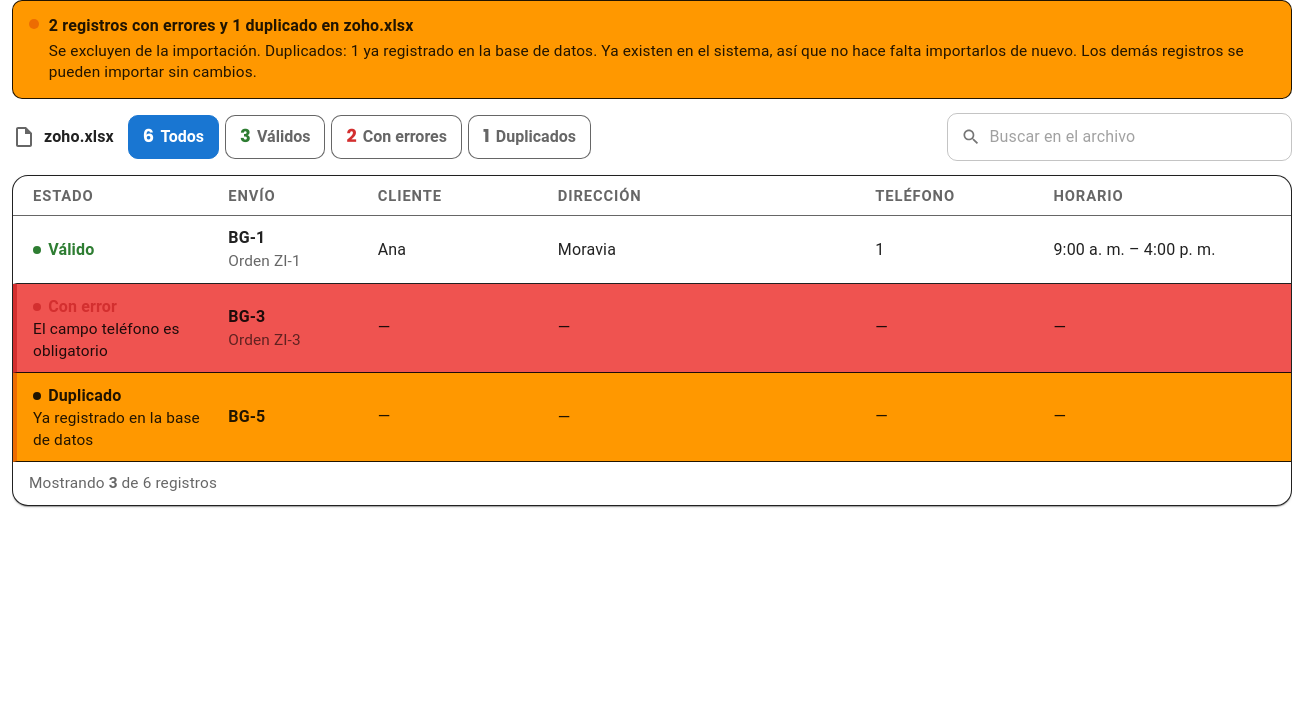
Test case: ImportPreviewView › busca dentro del archivo sin distinguir mayúsculas ni tildes y se combina con el filtro
The width and height of the screenshot is (1304, 720).
Type "MORÁVIA" into the search field labelled "Buscar en el archivo" at [1141, 137], box top-left (989, 112), bottom-right (1292, 161)
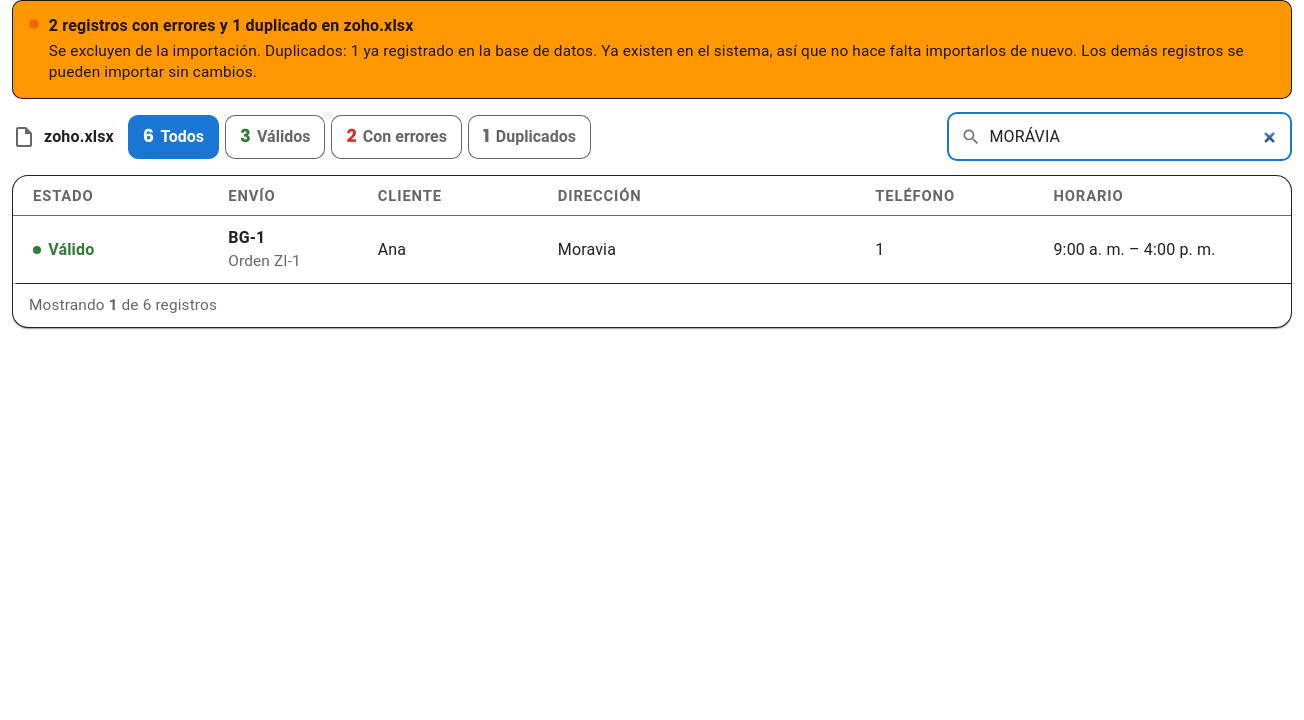
Expected: the number of list items is 1, top-left (13, 216), bottom-right (1291, 284)
Result: the text "Mostrando 1 de 6 registros" is shown at top-left (29, 296), bottom-right (217, 314)
Click the button "1 Duplicados" at [530, 137], box top-left (468, 115), bottom-right (591, 159)
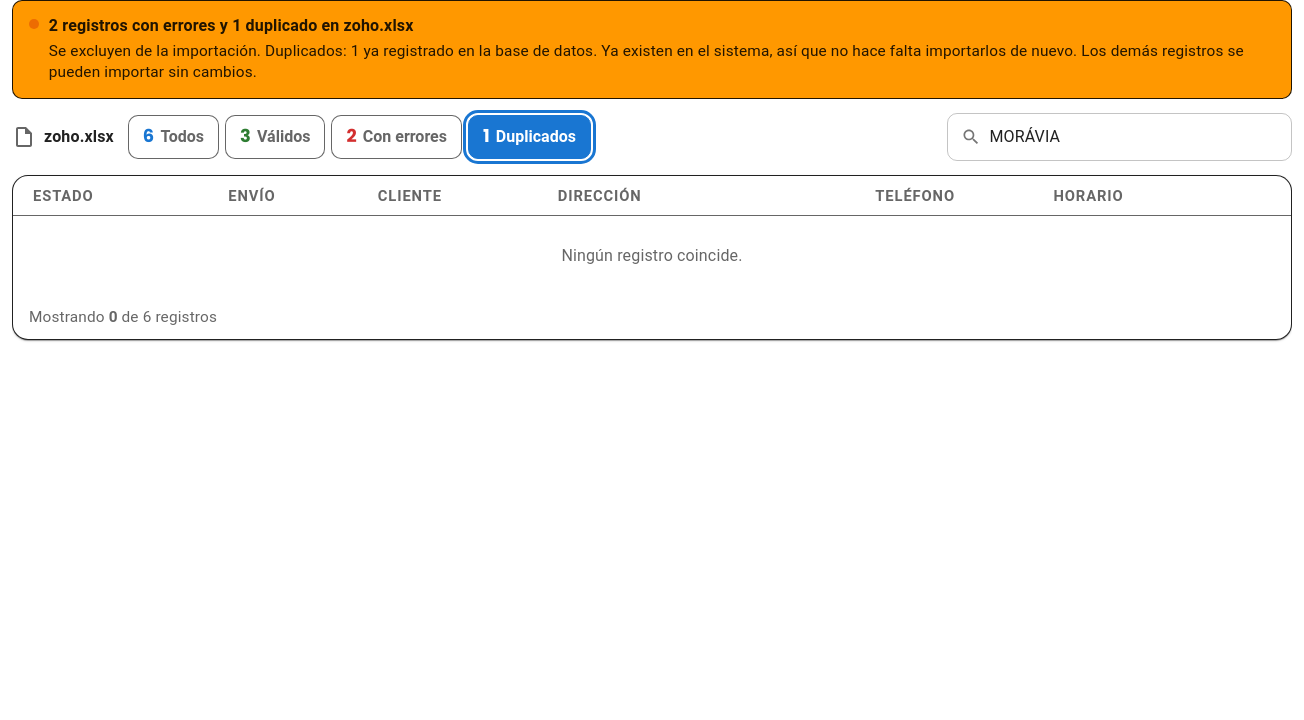
Result: the text "Ningún registro coincide." is shown at top-left (561, 246), bottom-right (743, 265)
